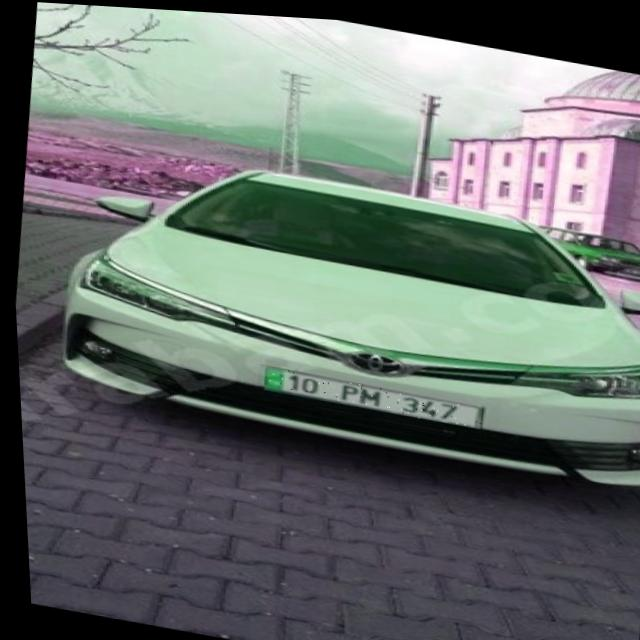license_plate: (259, 362, 480, 424)
